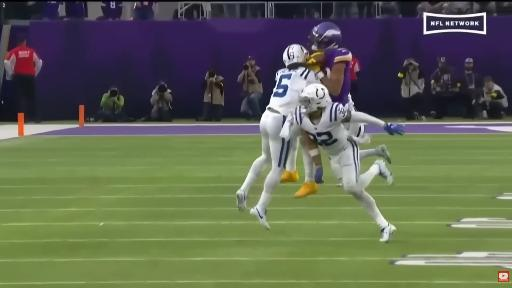Helmet: (309, 22, 341, 50), (300, 84, 331, 111), (283, 44, 308, 66)
Jersey: (294, 103, 350, 156), (267, 67, 320, 115), (324, 48, 352, 105)
Player: (294, 84, 403, 241), (236, 44, 319, 228), (308, 22, 355, 110)
